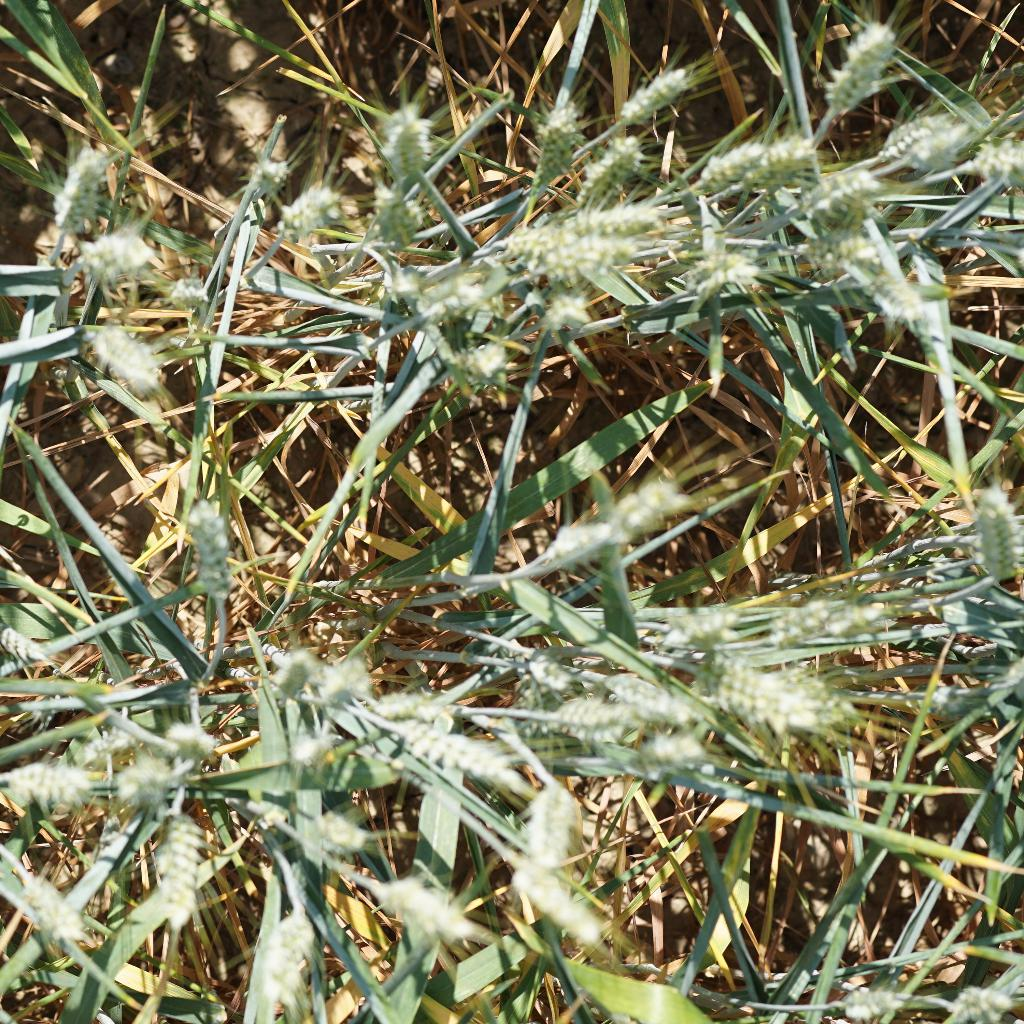0-0: (473, 854, 616, 945), (714, 658, 862, 743), (604, 44, 729, 138), (361, 860, 489, 946), (811, 14, 903, 130), (399, 707, 518, 783), (512, 774, 598, 877), (255, 890, 322, 1021), (598, 665, 716, 735), (151, 791, 206, 940), (180, 486, 245, 609), (81, 313, 164, 407), (511, 90, 583, 197), (5, 856, 86, 946), (608, 470, 705, 544), (963, 477, 1024, 591), (51, 147, 127, 238), (613, 731, 722, 793), (567, 126, 653, 200), (0, 755, 101, 818), (505, 223, 634, 272), (67, 231, 169, 290), (860, 258, 940, 332), (870, 100, 950, 171), (548, 681, 634, 747), (546, 501, 627, 571), (737, 124, 821, 191), (649, 597, 746, 654), (803, 179, 885, 246), (297, 799, 377, 863), (556, 202, 662, 250), (382, 111, 444, 189), (829, 965, 912, 1023), (109, 754, 190, 813), (703, 131, 769, 201), (548, 292, 626, 351), (773, 586, 841, 653), (400, 268, 490, 317), (686, 246, 758, 306), (372, 190, 444, 250), (277, 176, 344, 240), (160, 707, 230, 768), (956, 126, 1024, 188), (74, 714, 144, 773), (440, 328, 519, 378), (946, 975, 1020, 1024), (318, 647, 380, 702), (276, 731, 348, 778), (518, 632, 572, 688), (0, 612, 56, 666), (276, 646, 322, 707), (164, 266, 221, 314), (250, 154, 294, 197)
